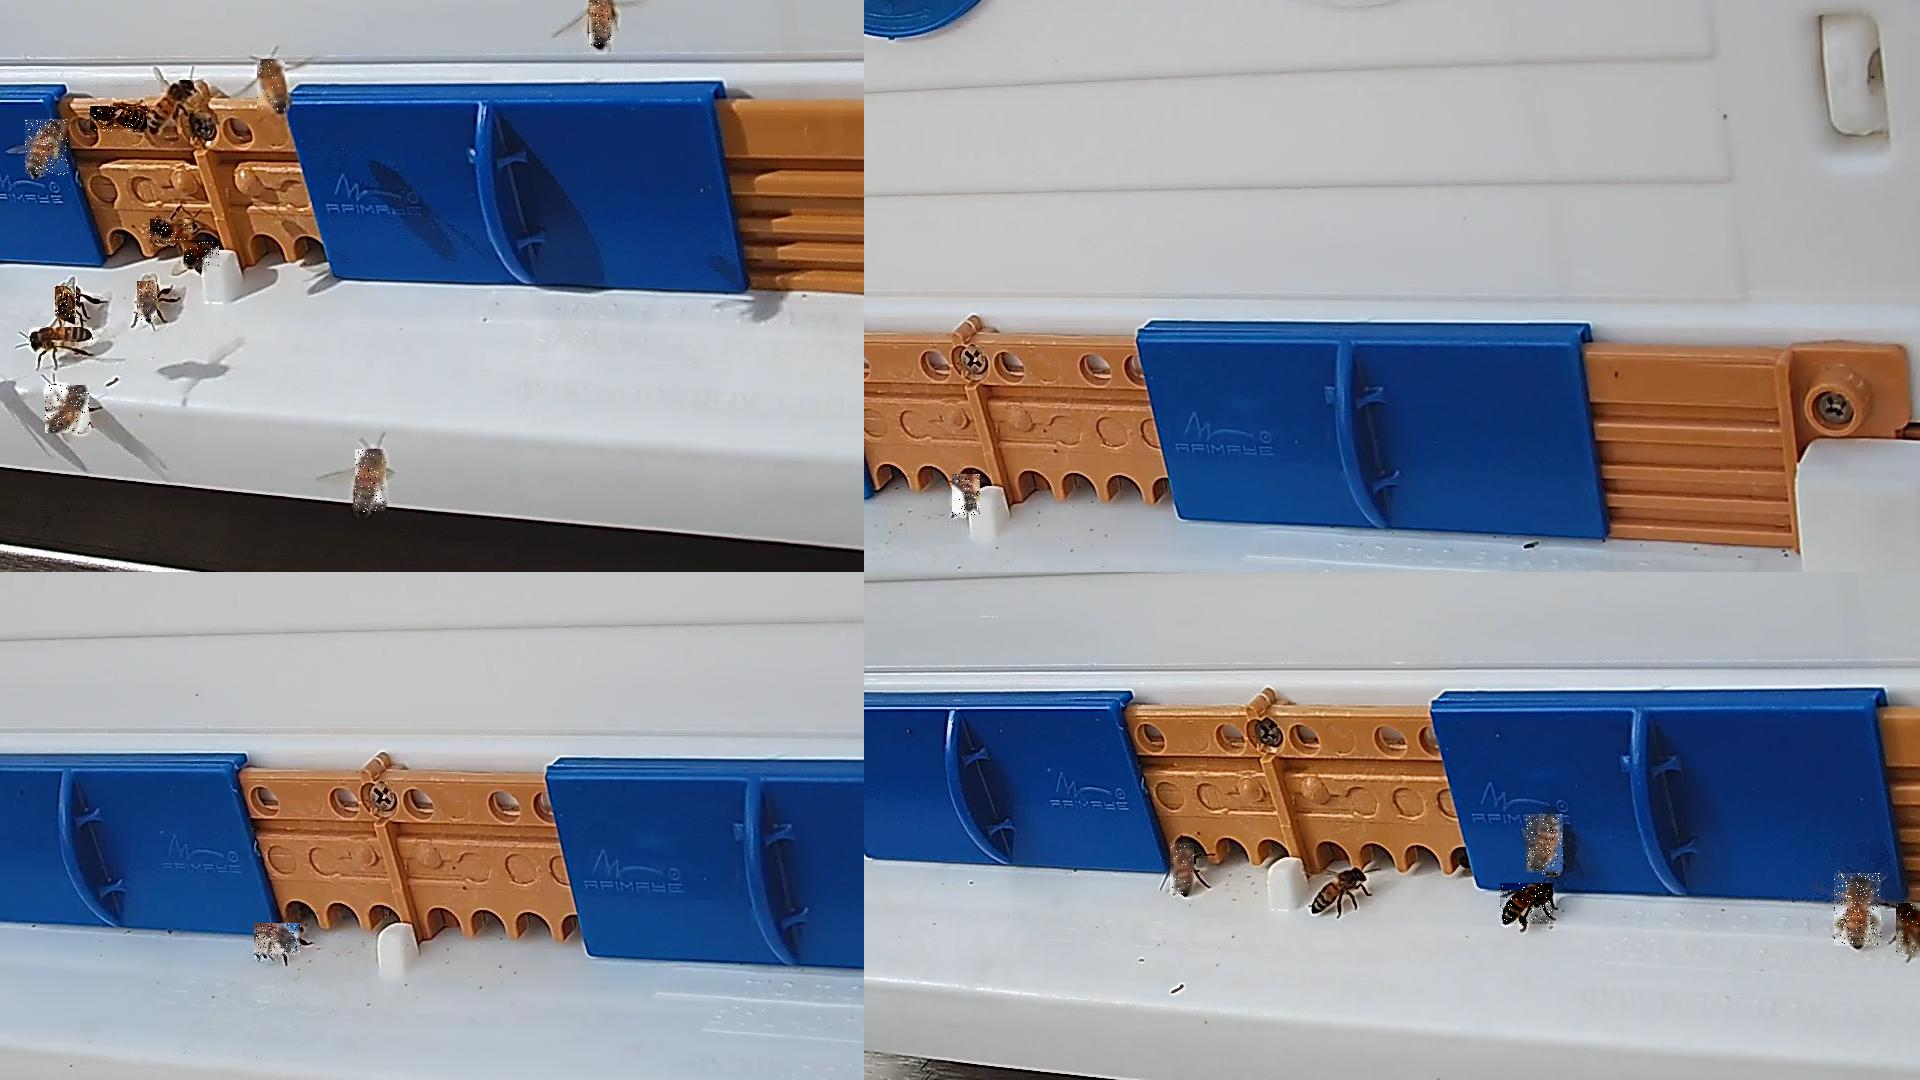bee: (145, 80, 195, 133), (1312, 866, 1367, 911), (1501, 884, 1555, 926), (1527, 815, 1564, 876), (45, 385, 90, 434), (355, 450, 388, 514), (255, 924, 303, 957), (257, 59, 286, 113), (91, 107, 148, 133), (1170, 843, 1195, 895), (29, 328, 94, 347), (589, 0, 613, 47), (150, 219, 194, 244), (185, 241, 220, 270), (137, 282, 158, 322), (55, 287, 80, 319)
pollenbee: (1834, 873, 1882, 947), (26, 120, 70, 177), (952, 475, 981, 518), (1898, 903, 1919, 957)
